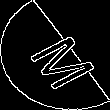M_NE: (14, 22, 96, 88)
